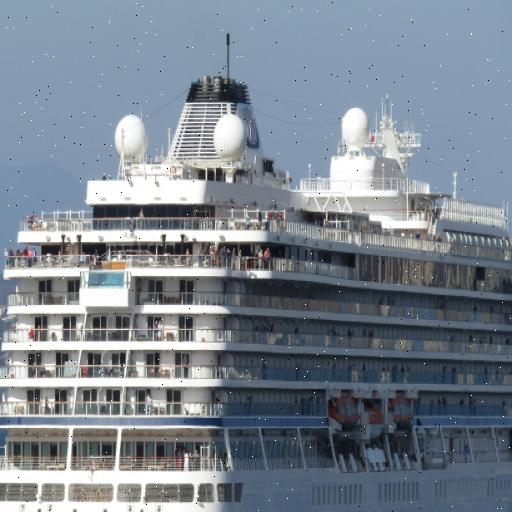cruises: (1, 31, 512, 512)
